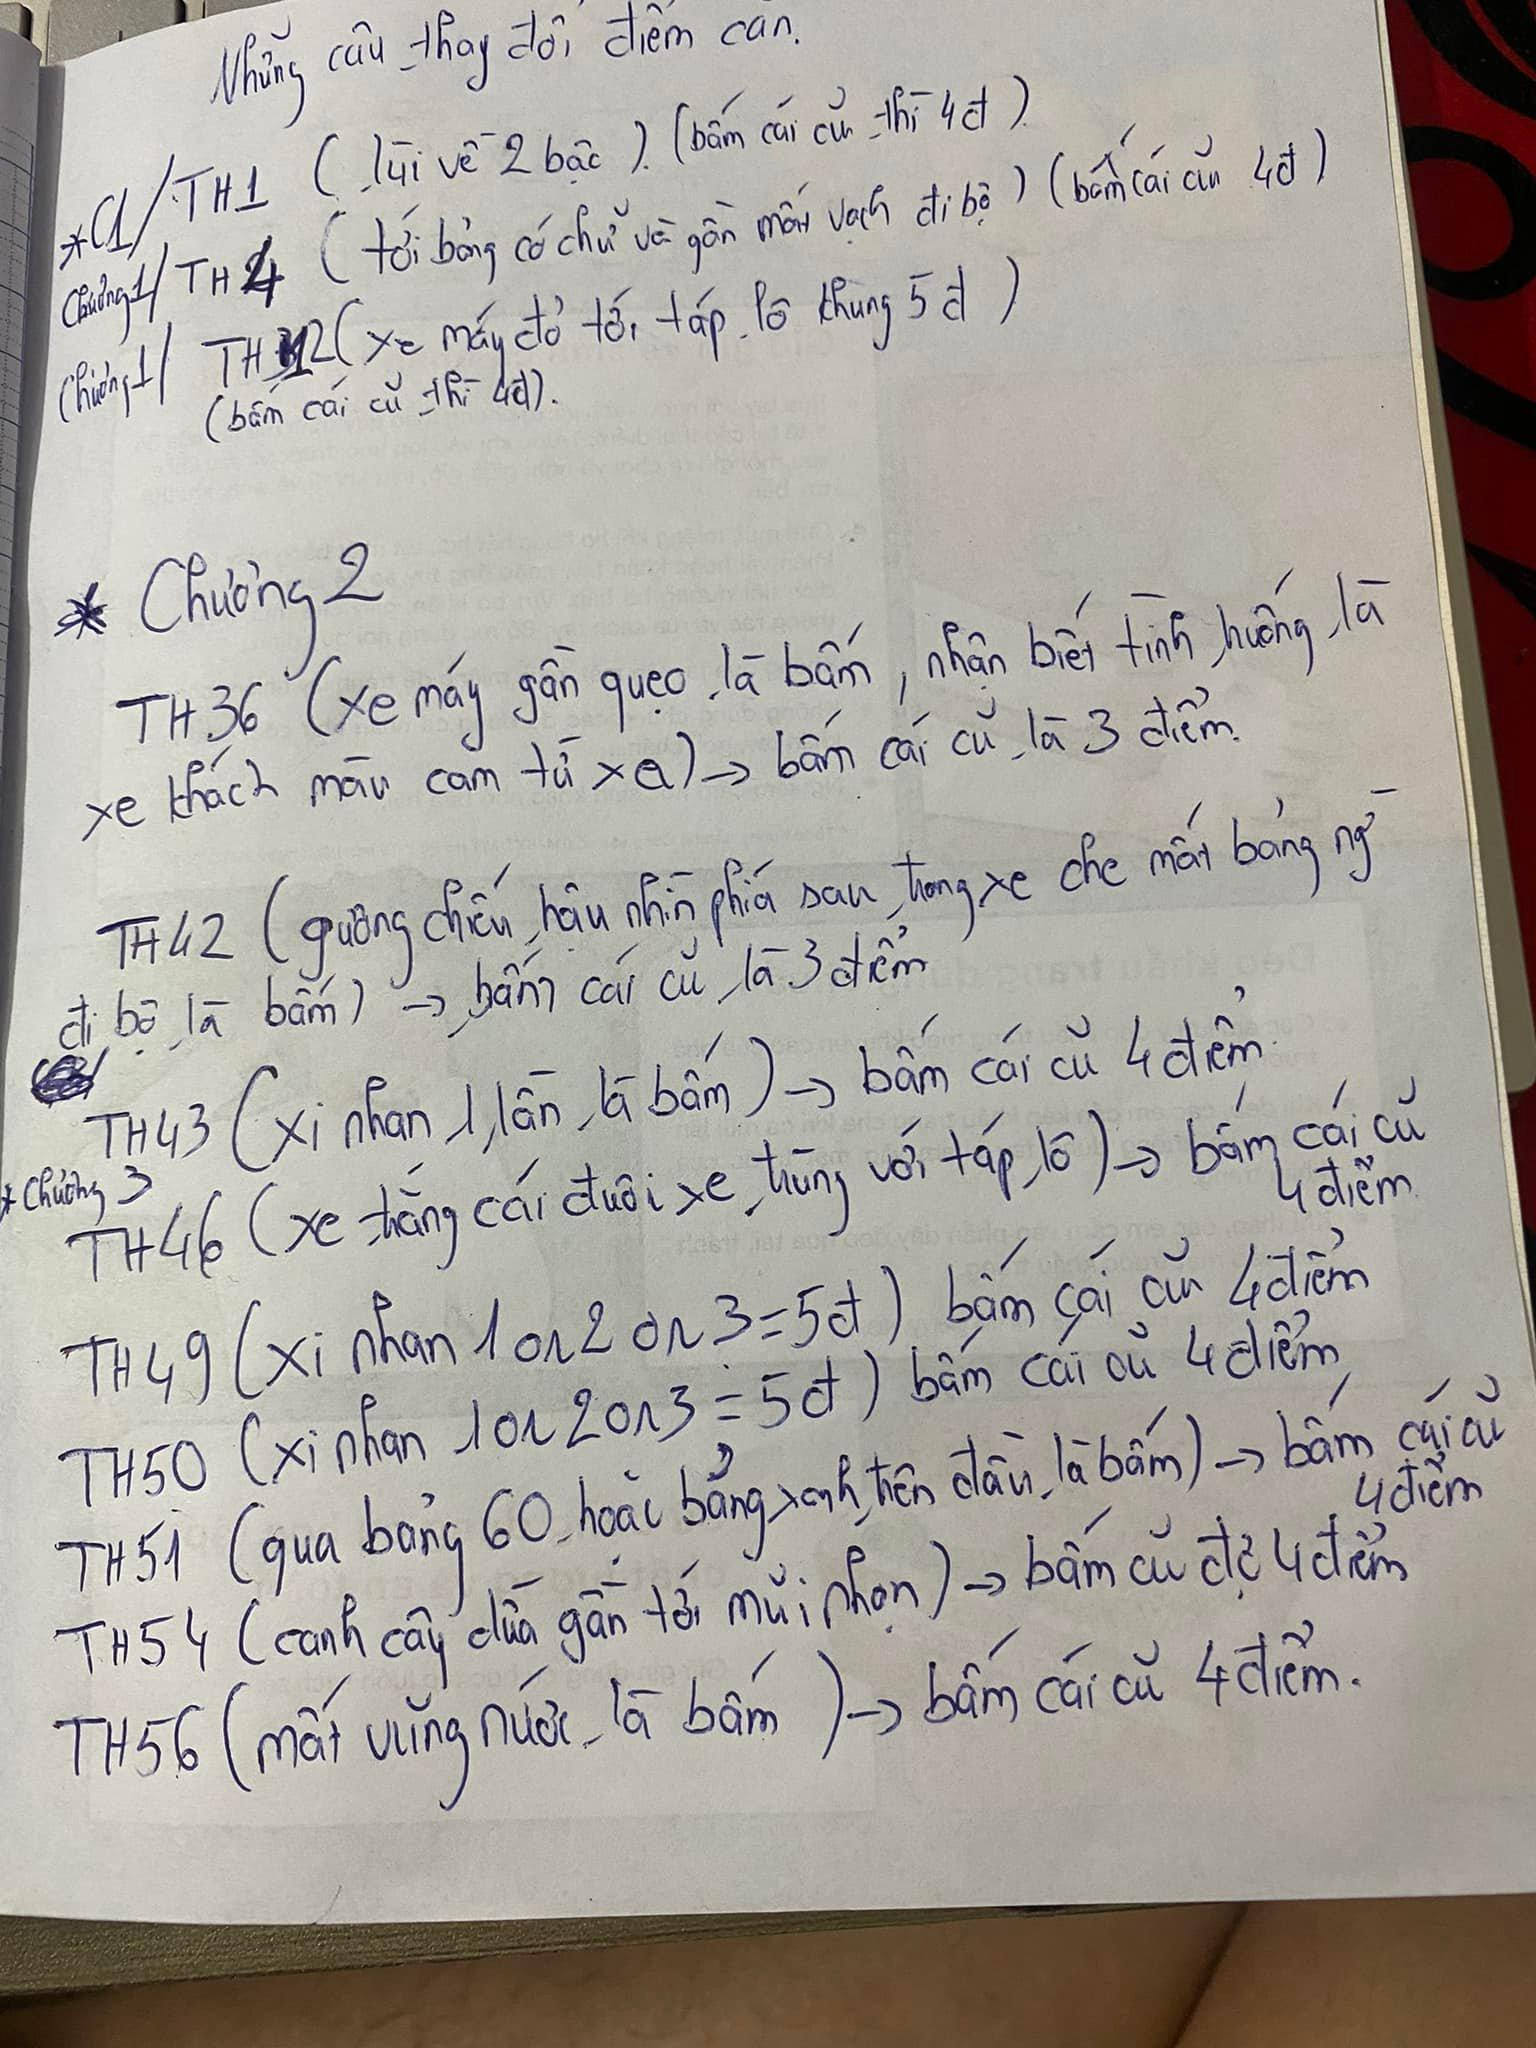text: (47, 1371, 1517, 1624), (50, 1293, 1354, 1527), (50, 116, 1336, 353), (63, 1080, 1436, 1297), (44, 1606, 1367, 1827), (90, 780, 1407, 997), (50, 1216, 1376, 1427), (100, 556, 1400, 763), (44, 1513, 1417, 1700), (84, 977, 1273, 1190), (53, 63, 1029, 281), (77, 677, 1254, 853), (53, 247, 1026, 434), (50, 913, 937, 1066), (203, 0, 810, 140), (40, 534, 387, 687), (197, 353, 557, 453), (0, 1156, 163, 1230)
